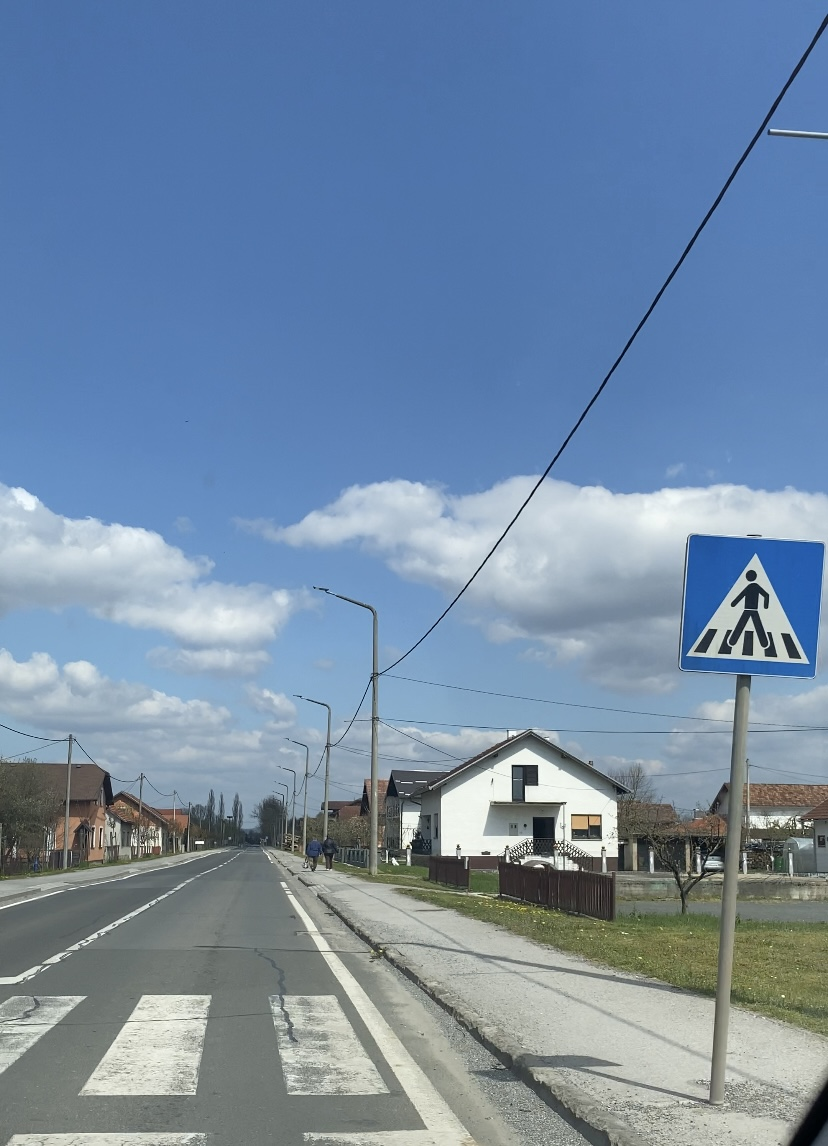Pješački prijelaz: (678, 533, 826, 679)
